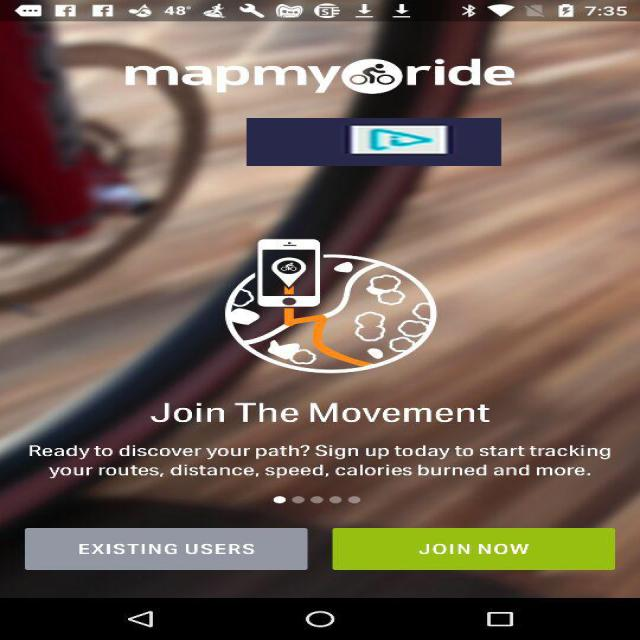sneaking: (246, 118, 502, 166)
